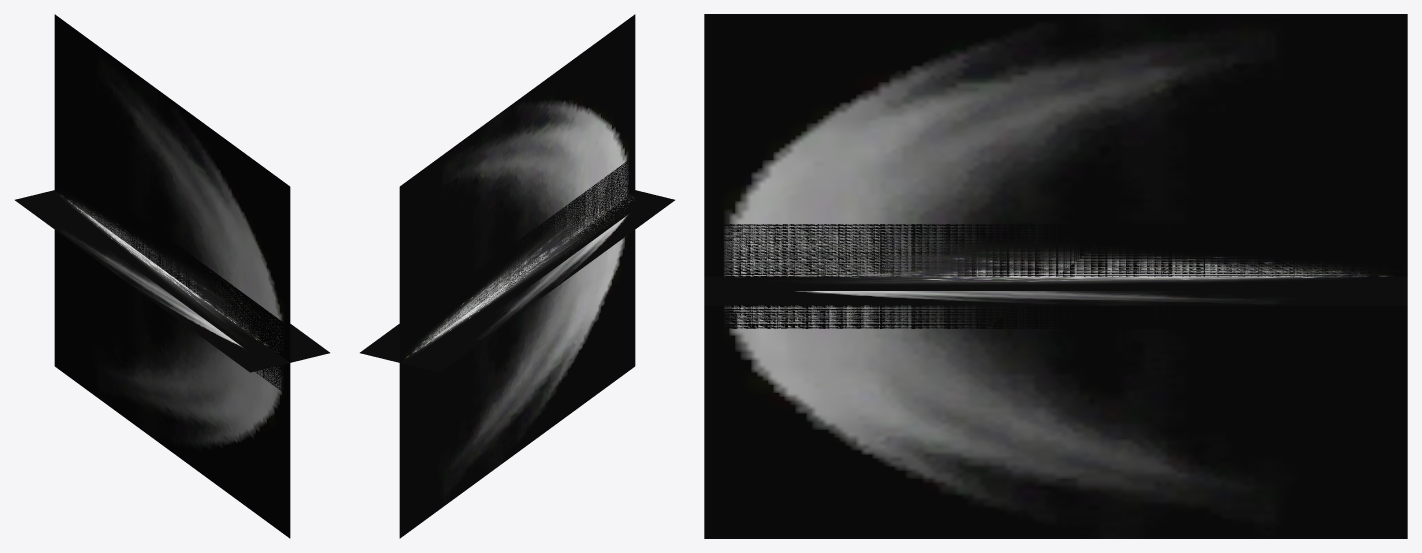
The model's file is Effect_1101skill001 #0440008.fbx.
The picture shows the model from 3 angles, left to right: view 1: azimuth 30°, elevation 25°; view 2: azimuth 150°, elevation 25°; view 3: azimuth 270°, elevation 25°; orthographic projection. The views are drawn at different scales.
Visible parts, largest first — view 1: Effect_1101skill001, Effect_1101skill001 (1); view 2: Effect_1101skill001, Effect_1101skill001 (1); view 3: Effect_1101skill001, Effect_1101skill001 (1).
Part boxes in pixels (x1,y1,x2,y2): Effect_1101skill001: (15,14,329,538); Effect_1101skill001 (1): (35,155,309,397); Effect_1101skill001: (360,14,674,538); Effect_1101skill001 (1): (380,155,654,397); Effect_1101skill001: (704,14,1407,538); Effect_1101skill001 (1): (704,224,1407,328).
Size of the model in its own units: 1.67 by 7 by 8.5.
Materials: 2 (2 with a texture image).
